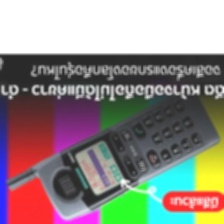phone: (2, 82, 222, 221)
